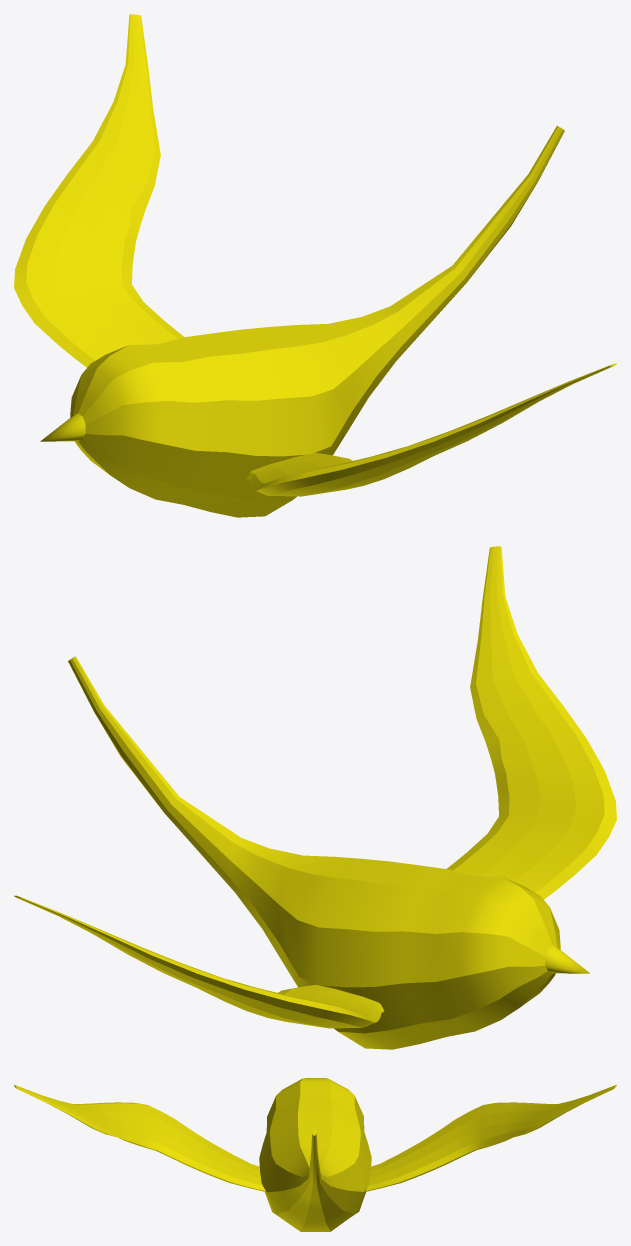
Rendered from Bird_flying.fbx.
3 views of the same model, one above another, from view 1: azimuth 30°, elevation 25°; view 2: azimuth 150°, elevation 25°; view 3: azimuth 270°, elevation 25° (orthographic). The views are drawn at different scales.
Visible parts, largest first — view 1: pCylinder4; view 2: pCylinder4; view 3: pCylinder4.
Boxes of the visible parts, x1,y1,x2,y2 form: pCylinder4: [14, 14, 616, 517]; pCylinder4: [14, 546, 616, 1049]; pCylinder4: [14, 1078, 616, 1231].
Size of the model in its own units: 29.73 by 16.67 by 47.24.
